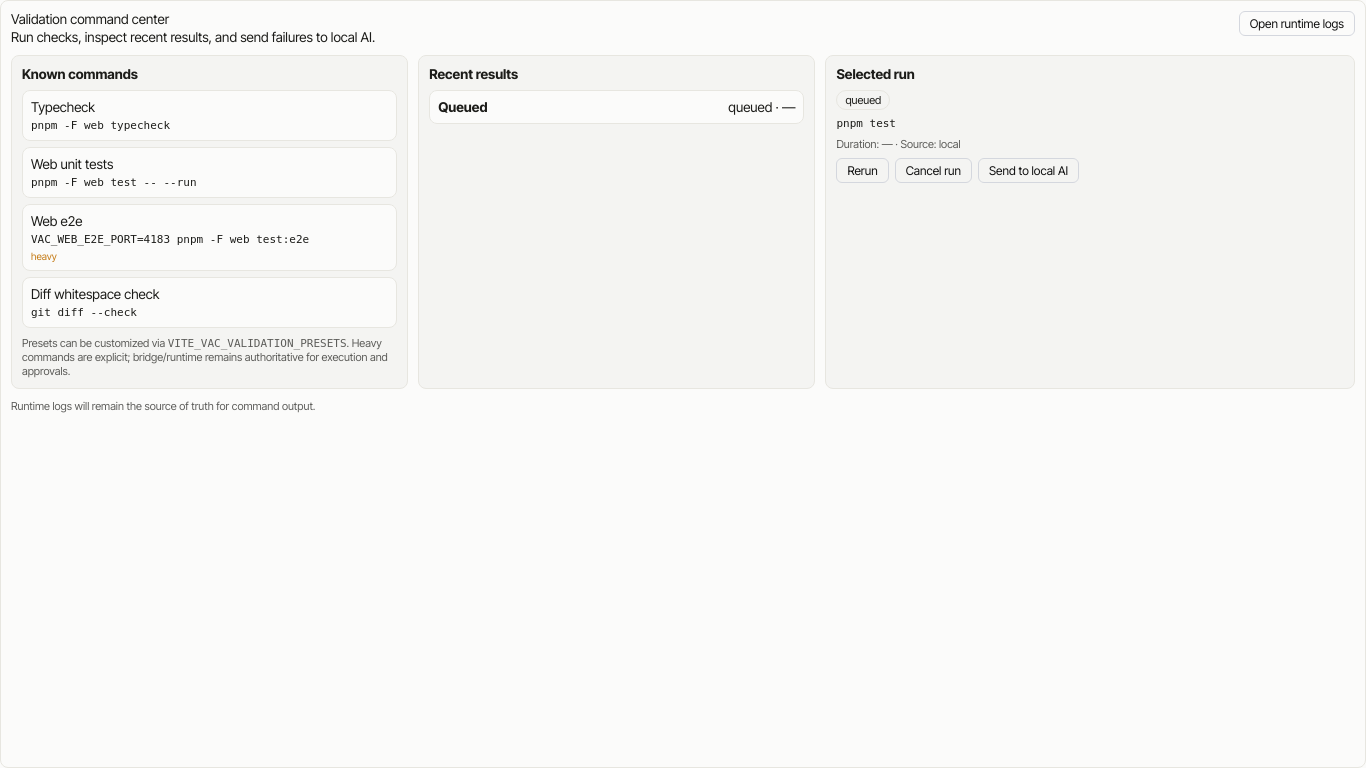
Scenario: <ValidationPanel/> › cancel button is disabled for failed runs but enabled for queued/running
Click the button with test id "validation-cancel": (933, 170) [895,158,972,183]
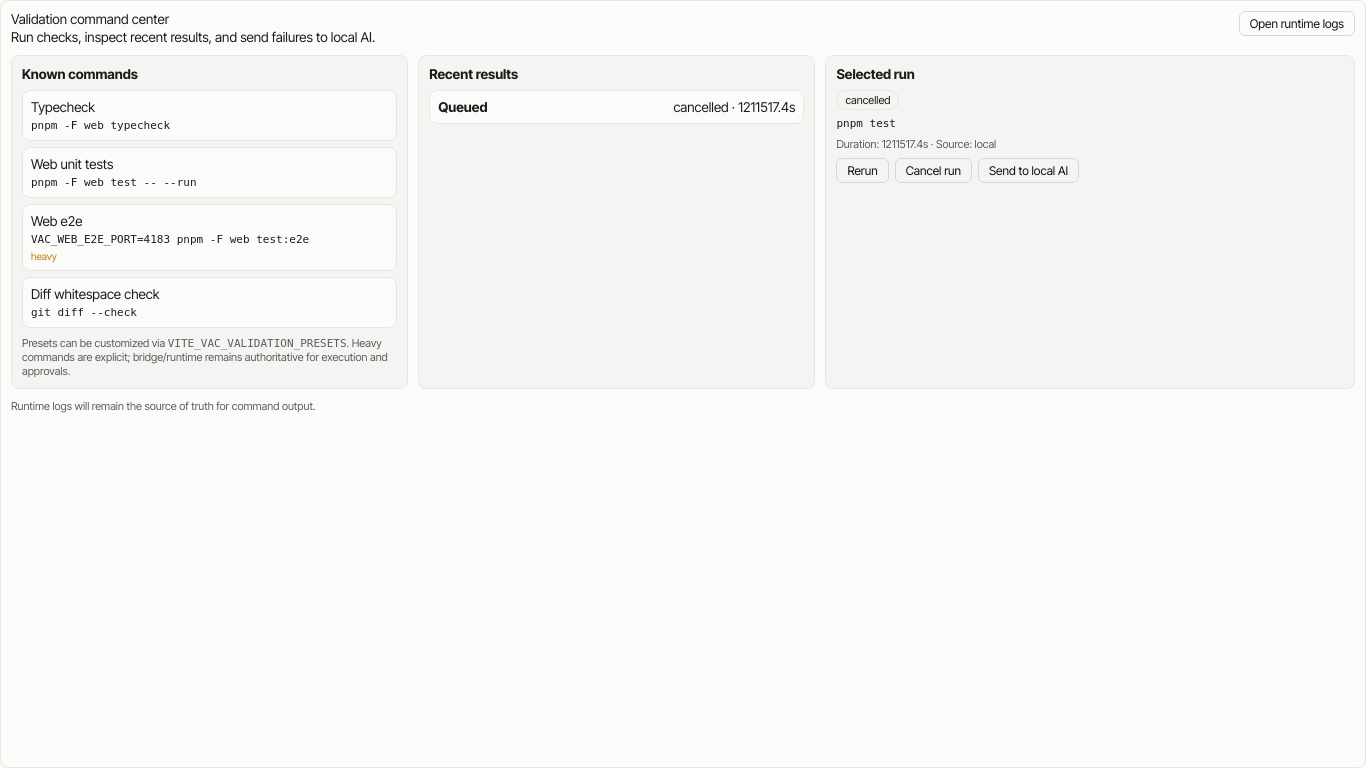
Now the text "cancelled" is shown, box [836,90,899,110]
